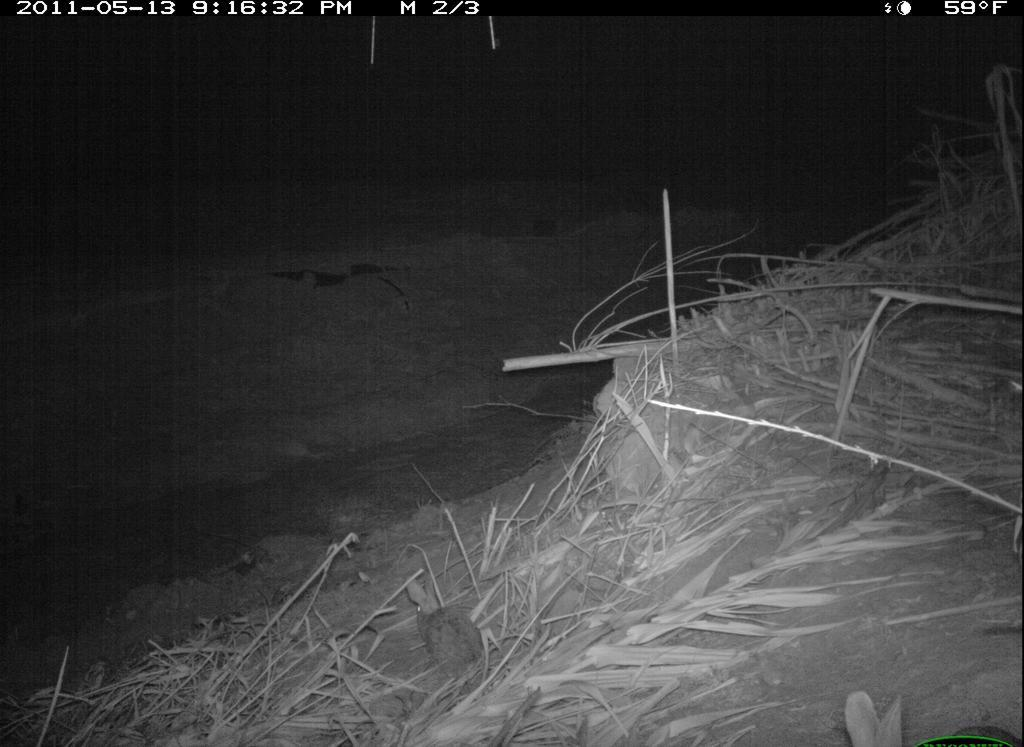rabbit: (834, 678, 1013, 747), (398, 569, 493, 684)
